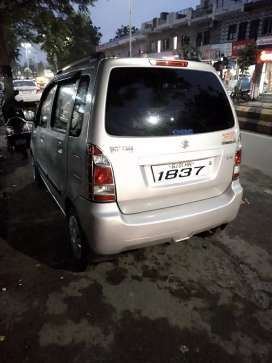nameplate: (149, 157, 208, 182)
